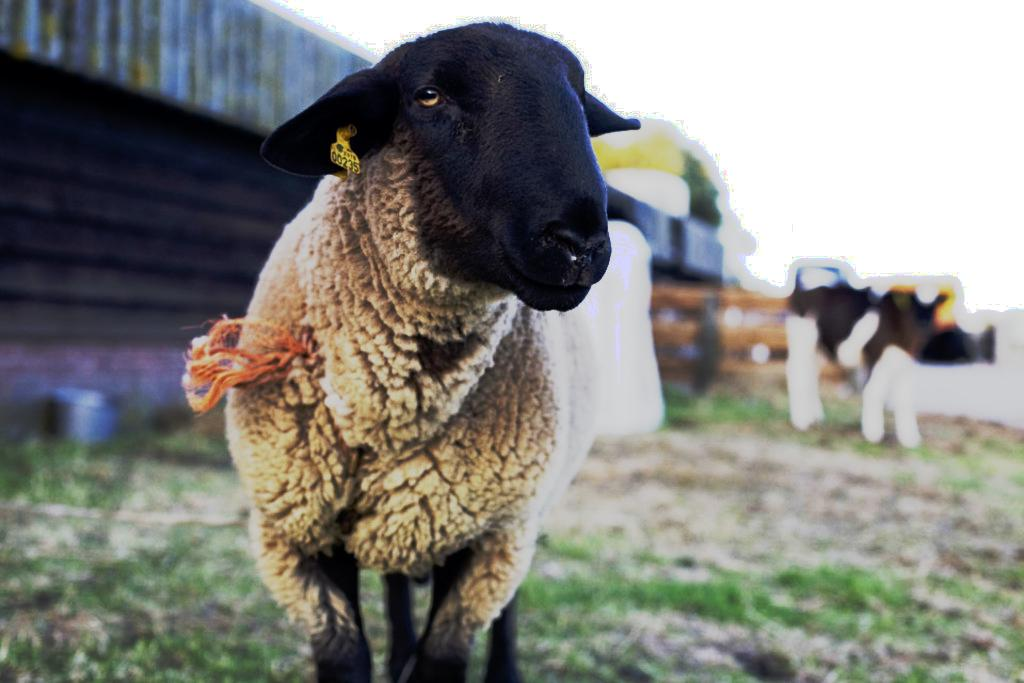Sheep: (223, 17, 641, 682)
